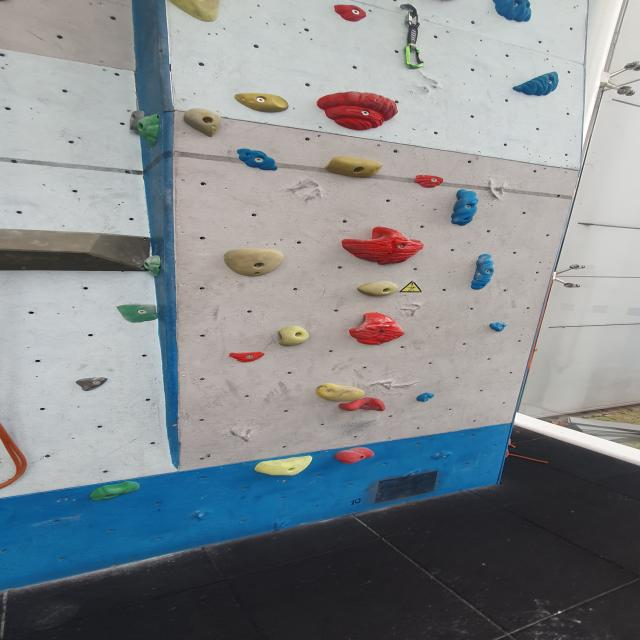Crimp: (254, 452, 321, 477), (229, 90, 292, 115), (510, 70, 562, 99), (232, 148, 286, 172), (88, 480, 145, 500), (134, 112, 164, 146), (330, 3, 368, 22), (73, 376, 113, 392), (227, 351, 267, 363), (412, 174, 445, 188), (143, 254, 164, 273), (428, 448, 453, 463), (415, 392, 436, 404), (488, 323, 508, 332)
Jug: (339, 225, 428, 265), (316, 92, 400, 131), (221, 248, 286, 278), (346, 312, 405, 345), (325, 158, 383, 179), (275, 326, 311, 348), (340, 397, 389, 413), (356, 281, 400, 297)
Pinch: (452, 189, 478, 227), (471, 256, 497, 292), (116, 302, 162, 322)
Sloper: (313, 383, 366, 402), (334, 446, 377, 464)
